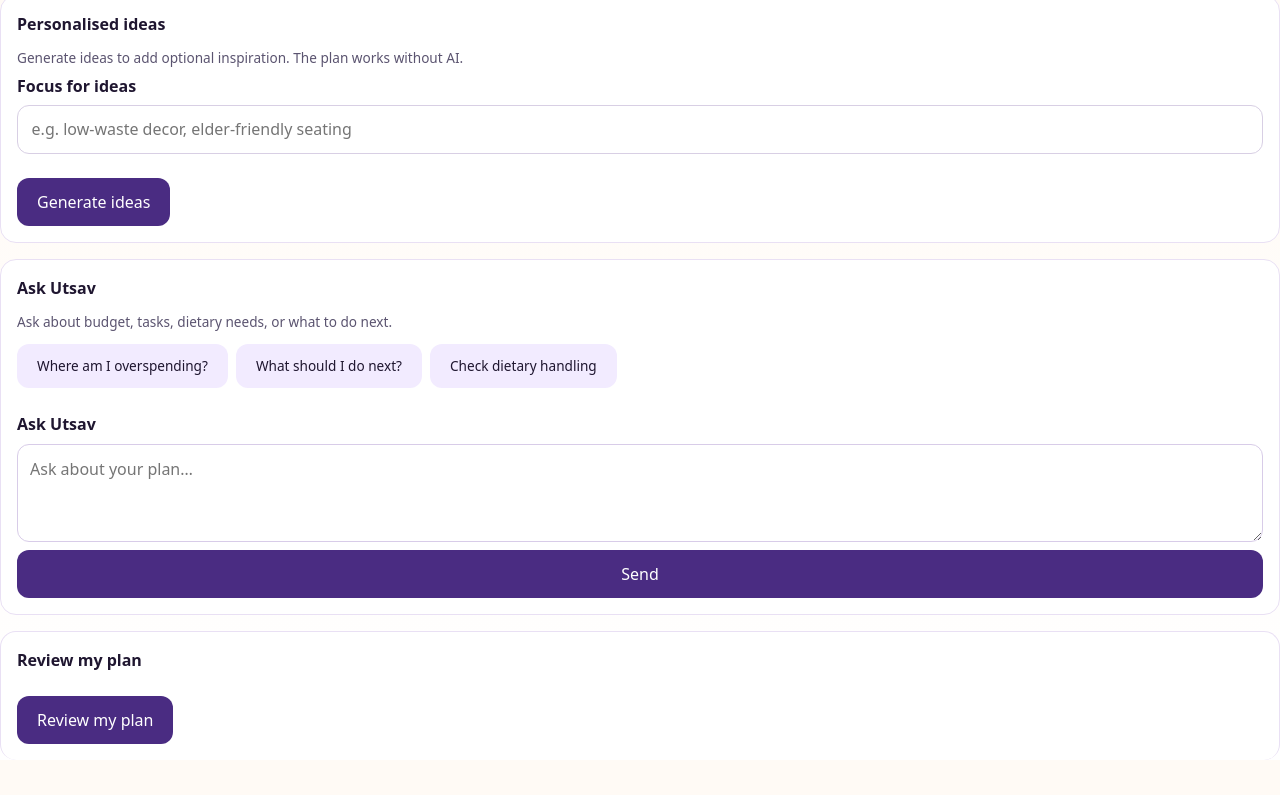
Test: AI panel › streams a reply and applies a confirmed patch
This screenshot has width=1280, height=795.
Type "What next?" into the text box with placeholder "Ask about your plan…" at (640, 493), box top-left (17, 444), bottom-right (1263, 542)
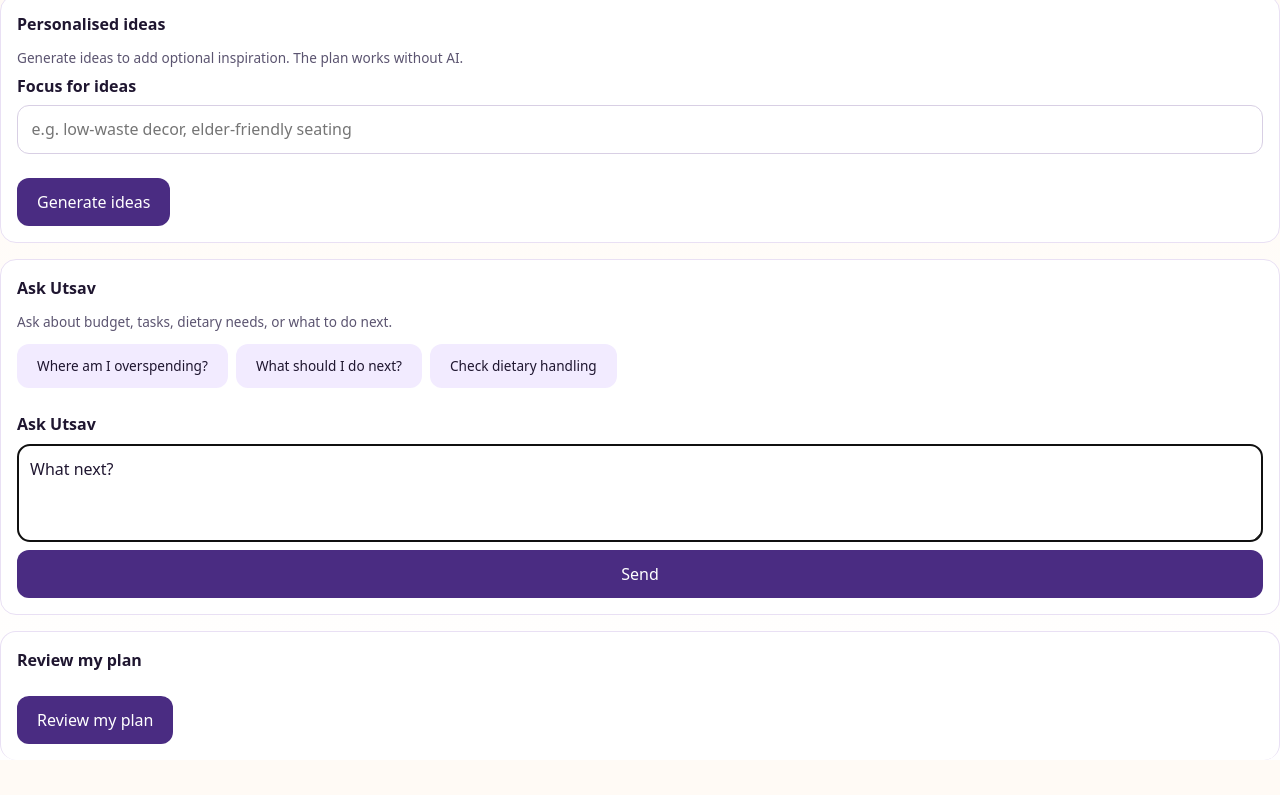
Click the button "Send" at (640, 574), box top-left (17, 550), bottom-right (1263, 598)
(page scrolled)
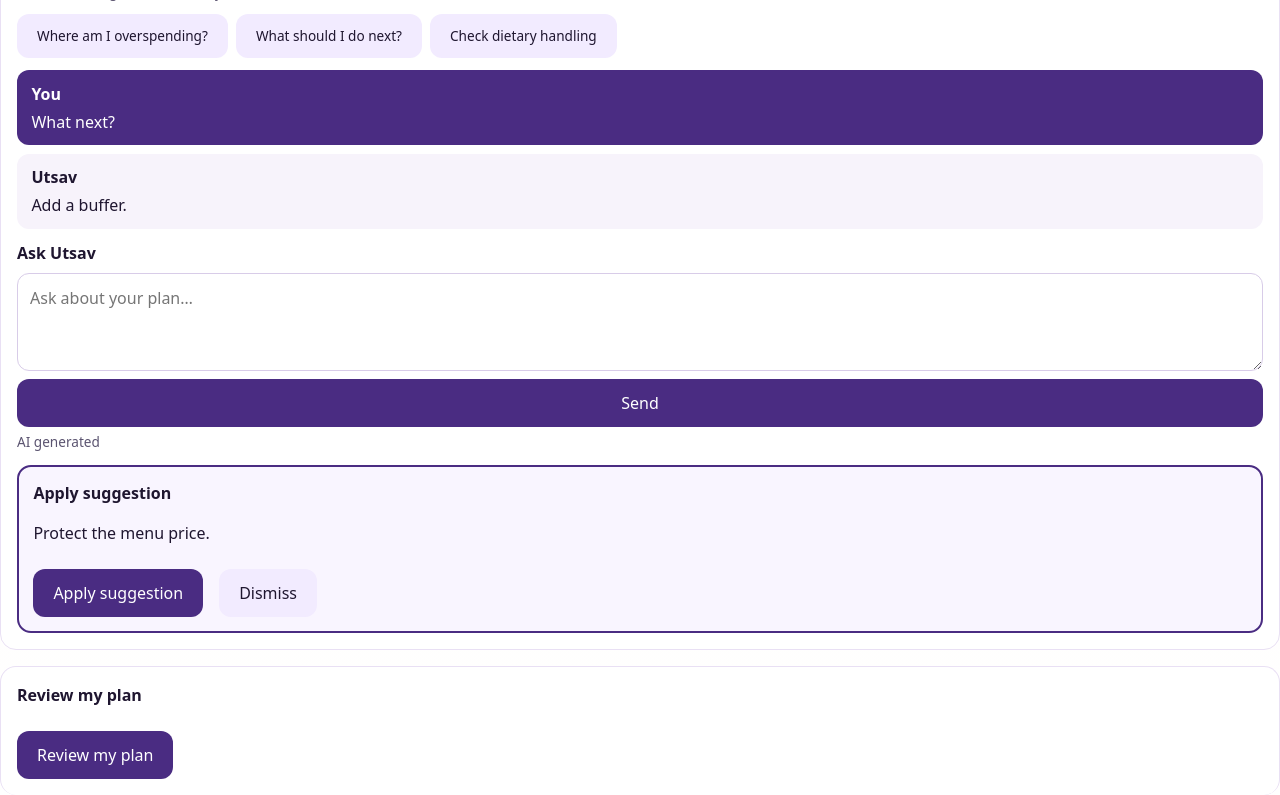
Check: the text "Add a buffer." is shown, box top-left (31, 194), bottom-right (127, 216)
Check: the text "Protect the menu price." is shown, box top-left (33, 522), bottom-right (210, 544)
Click the button "Apply suggestion" at (118, 593), box top-left (33, 569), bottom-right (203, 617)
(page scrolled)
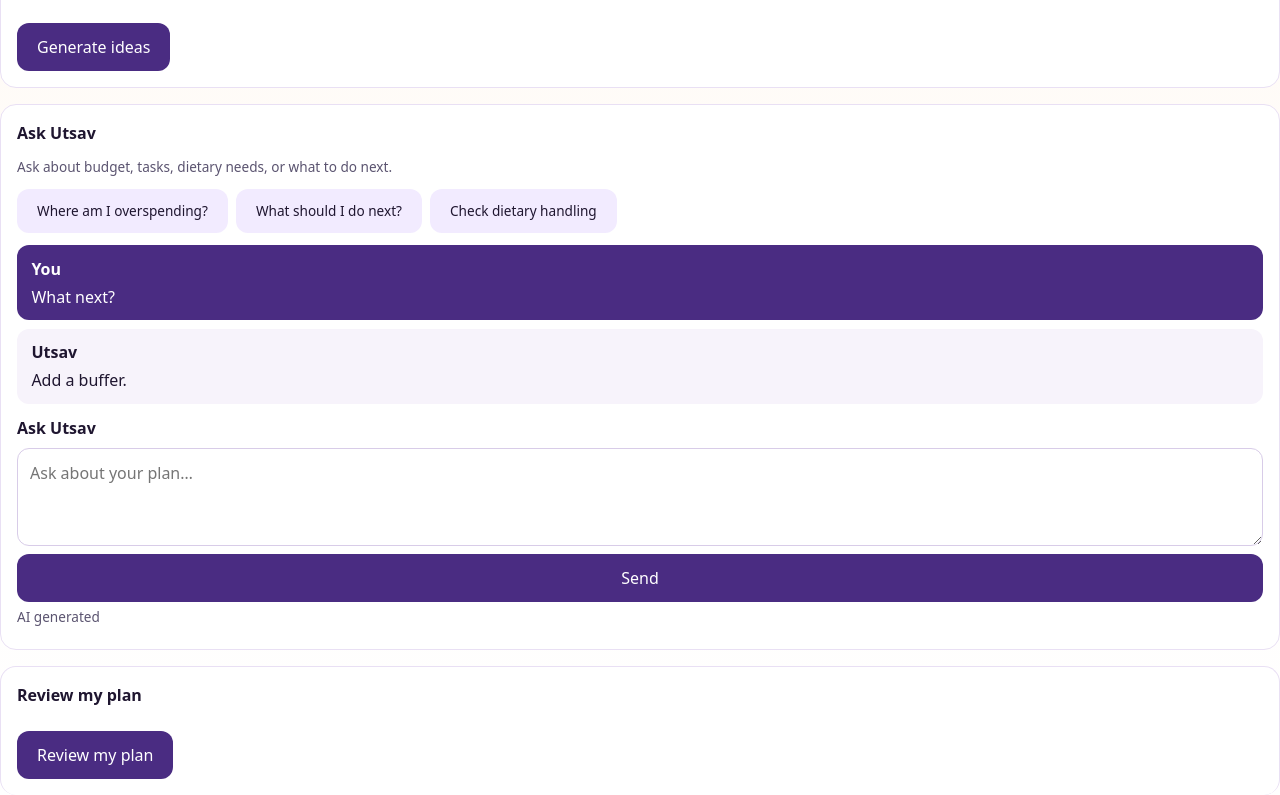
Check: the text "Protect the menu price." is gone
